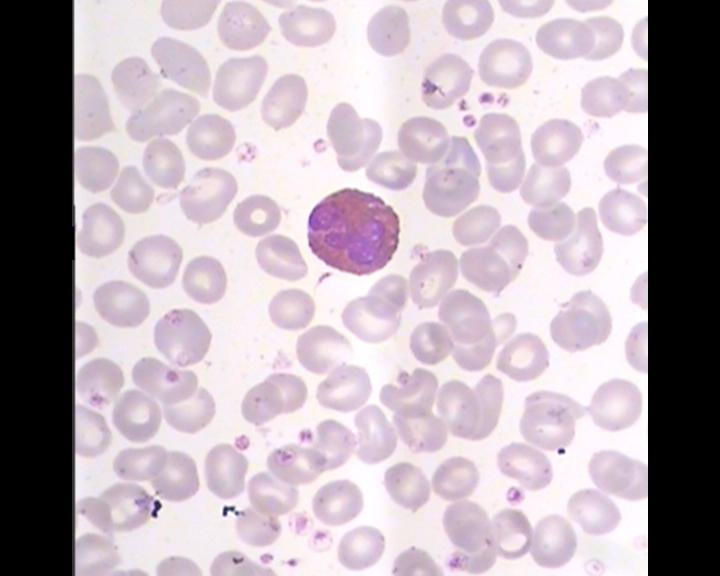eosi: (300, 189, 401, 276)
